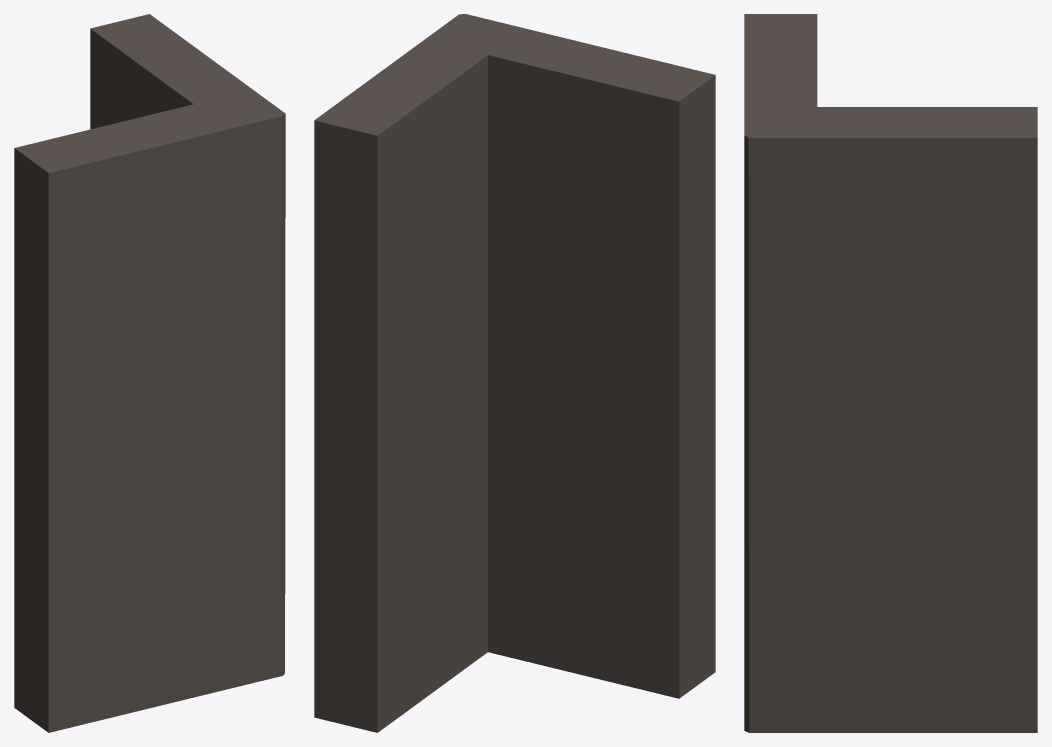
File: MCastle_SquareCorner_02.FBX
The picture shows the model from 3 angles, left to right: view 1: azimuth 30°, elevation 25°; view 2: azimuth 150°, elevation 25°; view 3: azimuth 270°, elevation 25°; orthographic projection. The views are drawn at different scales.
Parts seen in each view (by area): view 1: MCastle_SquareCorner_02; view 2: MCastle_SquareCorner_02; view 3: MCastle_SquareCorner_02.
Boxes of the visible parts, x1=… form: MCastle_SquareCorner_02: x1=14, y1=14, x2=285, y2=732; MCastle_SquareCorner_02: x1=314, y1=14, x2=715, y2=732; MCastle_SquareCorner_02: x1=744, y1=14, x2=1037, y2=732.
Size of the model in its own units: 2.01 by 4.5 by 2.01.
